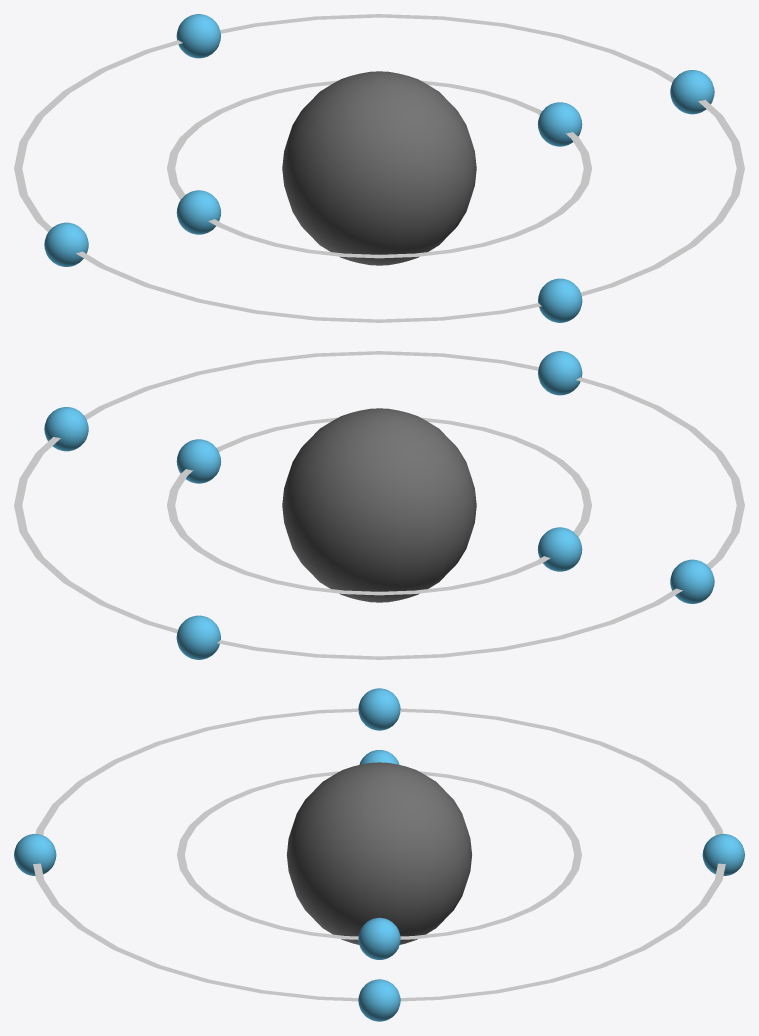
File: carbon_atom.glb
3 renders of one model, top to bottom at view 1: azimuth 30°, elevation 25°; view 2: azimuth 150°, elevation 25°; view 3: azimuth 270°, elevation 25°, orthographic. The views are drawn at different scales.
Parts seen in each view (by area): view 1: nucleus_node, shell_ring_1, shell_ring_0, electron_node_1_1, electron_node_1_3, electron_node_1_2, electron_node_0_1, electron_node_1_0, electron_node_0_0; view 2: nucleus_node, shell_ring_1, shell_ring_0, electron_node_1_3, electron_node_1_1, electron_node_1_2, electron_node_0_1, electron_node_1_0, electron_node_0_0; view 3: nucleus_node, shell_ring_1, shell_ring_0, electron_node_1_0, electron_node_1_2, electron_node_0_0, electron_node_1_1, electron_node_1_3.
Part boxes in pixels (x1,y1,x2,y2): nucleus_node: (282, 71, 476, 265); shell_ring_1: (14, 14, 744, 322); shell_ring_0: (167, 80, 591, 258); electron_node_1_1: (538, 278, 582, 322); electron_node_1_3: (176, 14, 220, 58); electron_node_1_2: (44, 222, 88, 266); electron_node_0_1: (176, 190, 221, 234); electron_node_1_0: (670, 70, 714, 114); electron_node_0_0: (537, 102, 582, 146); nucleus_node: (282, 408, 476, 602); shell_ring_1: (14, 351, 744, 659); shell_ring_0: (167, 417, 591, 595); electron_node_1_3: (176, 615, 220, 659); electron_node_1_1: (538, 351, 582, 395); electron_node_1_2: (670, 559, 714, 603); electron_node_0_1: (537, 527, 582, 571); electron_node_1_0: (44, 407, 88, 451); electron_node_0_0: (176, 439, 221, 483); nucleus_node: (287, 762, 471, 944); shell_ring_1: (33, 708, 725, 1001); shell_ring_0: (177, 771, 581, 939); electron_node_1_0: (358, 979, 400, 1021); electron_node_1_2: (358, 688, 400, 730); electron_node_0_0: (358, 917, 400, 959); electron_node_1_1: (14, 834, 56, 875); electron_node_1_3: (702, 834, 744, 875).
Size of the model in its own units: 2.76 by 0.7 by 2.76.
